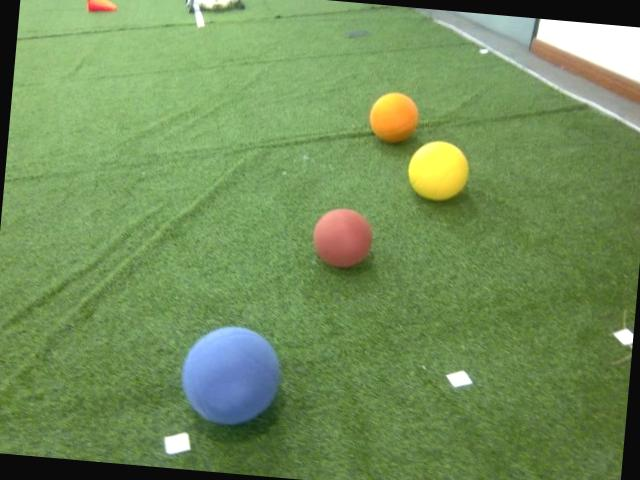blue_ball: (175, 322, 285, 431)
orange_ball: (366, 88, 421, 146)
orange_barrel: (84, 0, 120, 15)
red_ball: (312, 206, 374, 270)
yellow_ball: (404, 140, 472, 204)
